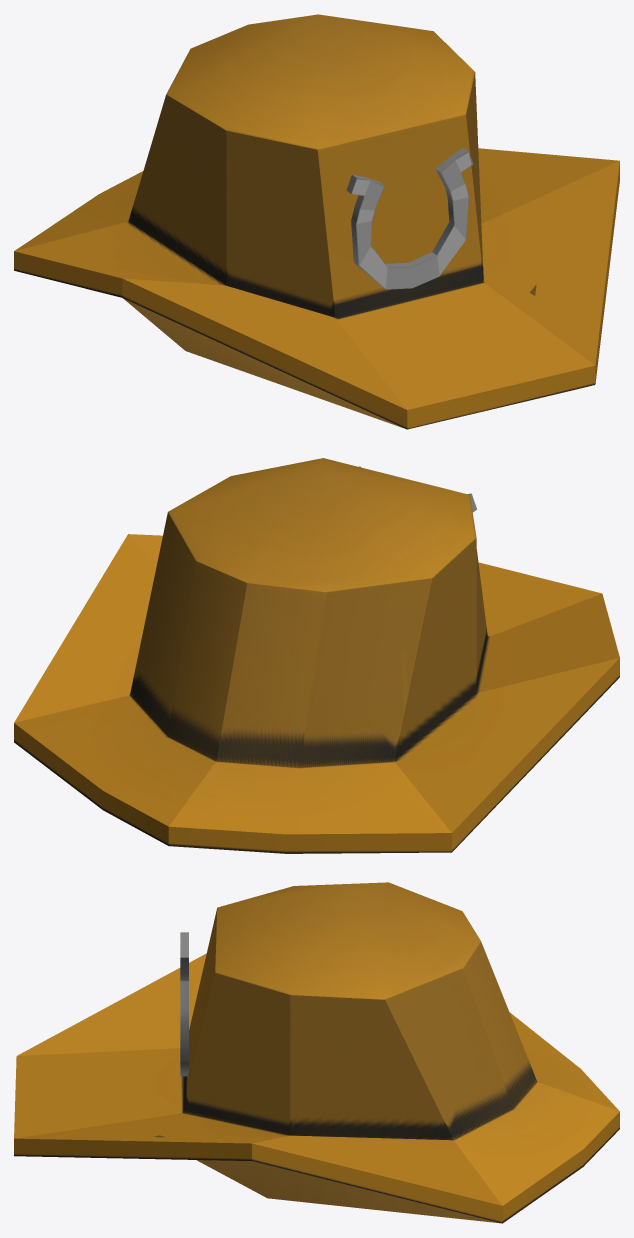
The model's file is Hat.fbx.
3 renders of one model, top to bottom at view 1: azimuth 30°, elevation 25°; view 2: azimuth 150°, elevation 25°; view 3: azimuth 270°, elevation 25°, orthographic. The views are drawn at different scales.
Visible parts, largest first — view 1: Hat1; view 2: Hat1; view 3: Hat1.
Boxes of the visible parts, bbox=[...] form: Hat1: bbox=[14, 14, 619, 429]; Hat1: bbox=[14, 458, 619, 853]; Hat1: bbox=[14, 882, 619, 1223].
Bounding box in the file's own units: 27 × 14.06 × 31.65.
1 material, 1 textured.
